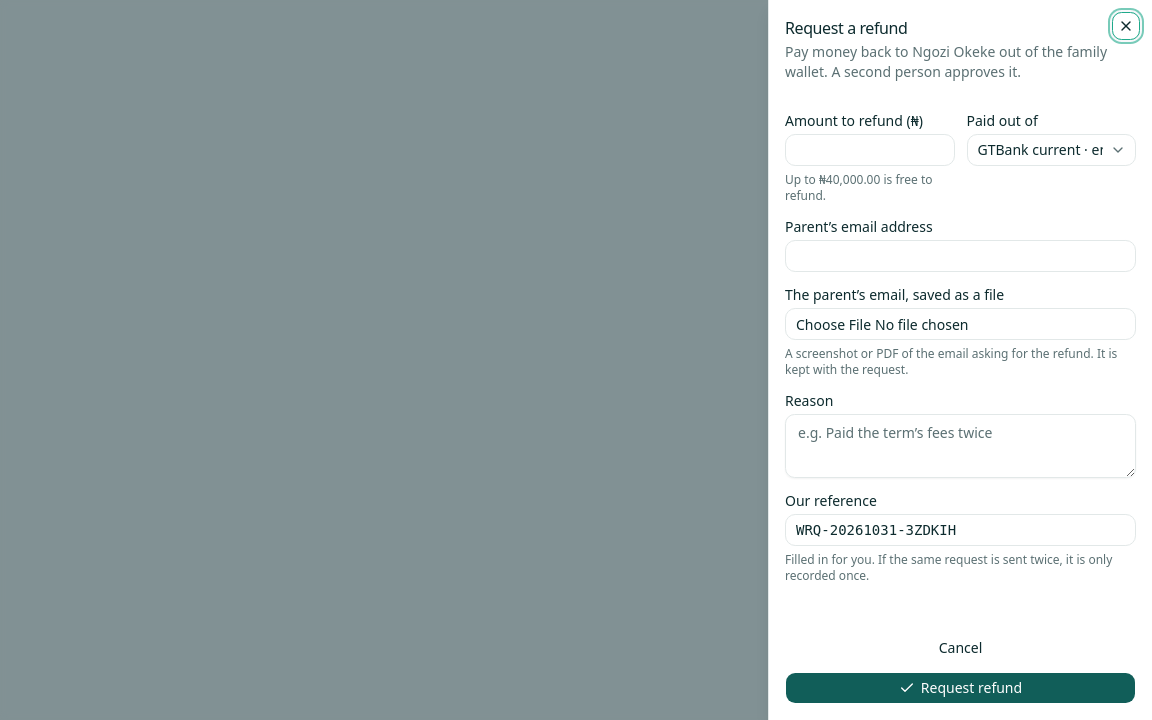
Test: RefundSheet › asks for every field and sends nothing
This screenshot has width=1152, height=720.
Click the button "Request refund" at (960, 688), box [785, 672, 1136, 704]
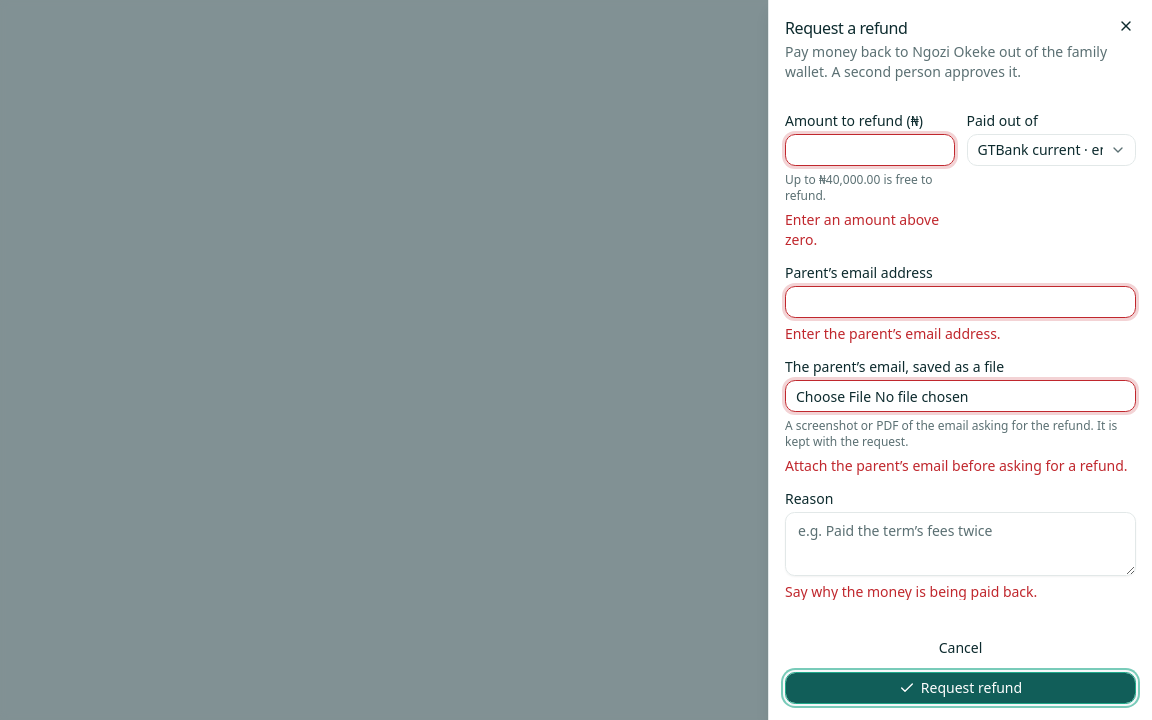
expect the text "Enter an amount above zero." is shown: met, box [785, 210, 954, 250]
expect the text "Enter the parent’s email address." is shown: met, box [785, 324, 1001, 343]
expect the text "Attach the parent’s email before asking for a refund." is shown: met, box [785, 456, 1136, 476]
